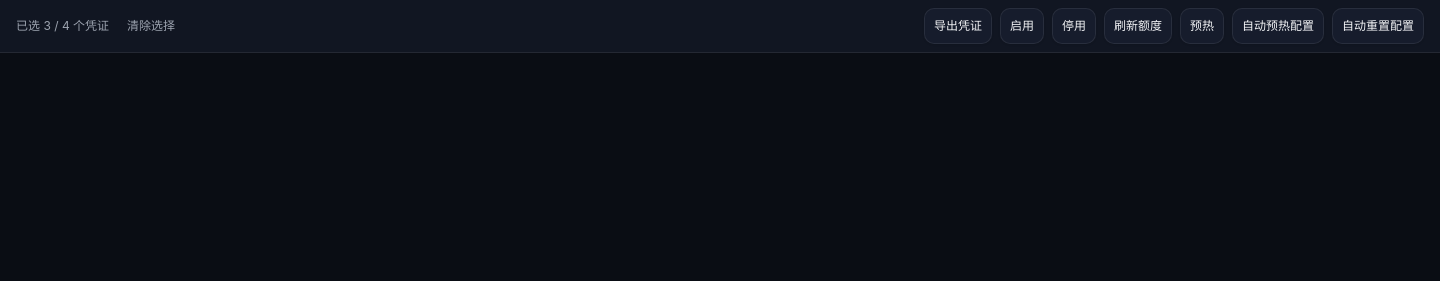
Test case: chains atomic enablement generations, encodes IDs, and stops following writes after a conflict
Click the button "停用": (1074, 26) x1=1052 y1=8 x2=1096 y2=44
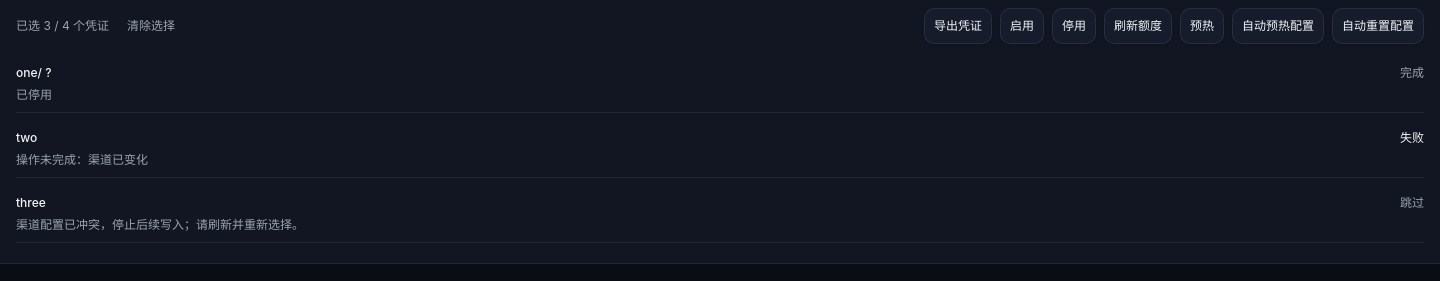
Result: the text "操作未完成：渠道已变化" is shown at x1=16 y1=152 x2=148 y2=167
Result: the text "完成" is shown at x1=1400 y1=64 x2=1424 y2=82
Result: the text "失败" is shown at x1=1400 y1=129 x2=1424 y2=147
